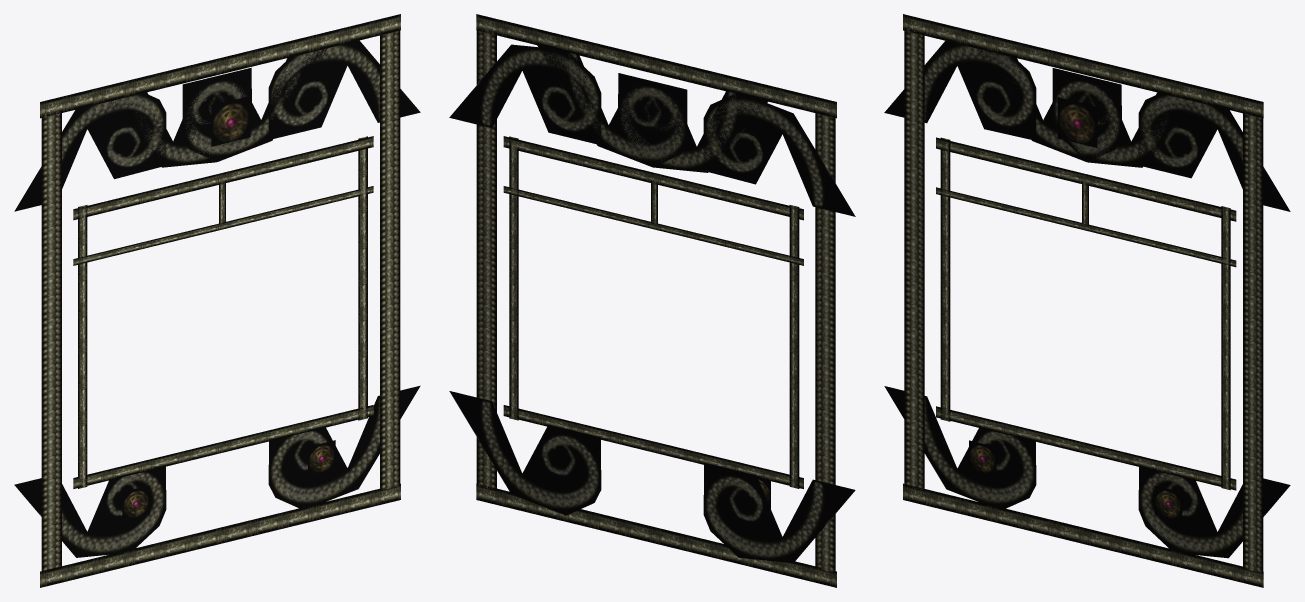
The model's file is gui_treasure_window_a.fbx.
3 renders of one model, left to right at view 1: azimuth 30°, elevation 25°; view 2: azimuth 150°, elevation 25°; view 3: azimuth 330°, elevation 25°, orthographic.
Parts seen in each view (by area): view 1: pPlane81, pPlane82, pPlane84, pPlane83, pPlane80, pPlane79, pPlane78, pPlane86, pPlane85, pPlane68, pPlane110, pPlane73 (+17 smaller); view 2: pPlane84, pPlane83, pPlane81, pPlane82, pPlane80, pPlane79, pPlane73, pPlane114, pPlane72, pPlane113, pPlane76, pPlane111 (+4 smaller); view 3: pPlane82, pPlane81, pPlane83, pPlane84, pPlane80, pPlane79, pPlane78, pPlane86, pPlane85, pPlane114, pPlane110, pPlane113 (+17 smaller).
Boxes of the visible parts, <box> form: pPlane81: <box>268,40,420,139</box>; pPlane82: <box>14,93,166,211</box>; pPlane84: <box>268,385,420,508</box>; pPlane83: <box>14,466,166,557</box>; pPlane80: <box>182,48,327,161</box>; pPlane79: <box>108,67,251,167</box>; pPlane78: <box>211,96,250,146</box>; pPlane86: <box>308,440,335,475</box>; pPlane85: <box>122,485,149,520</box>; pPlane68: <box>95,81,126,104</box>; pPlane110: <box>126,543,157,566</box>; pPlane73: <box>249,43,280,66</box>; pPlane84: <box>449,391,601,515</box>; pPlane83: <box>703,462,855,563</box>; pPlane81: <box>449,44,601,145</box>; pPlane82: <box>703,92,855,216</box>; pPlane80: <box>536,42,687,167</box>; pPlane79: <box>618,73,769,172</box>; pPlane73: <box>596,43,627,67</box>; pPlane114: <box>596,513,627,536</box>; pPlane72: <box>627,51,658,74</box>; pPlane113: <box>627,520,658,544</box>; pPlane76: <box>504,21,535,44</box>; pPlane111: <box>689,535,719,559</box>; pPlane82: <box>884,41,1036,140</box>; pPlane81: <box>1138,93,1290,211</box>; pPlane83: <box>884,386,1036,508</box>; pPlane84: <box>1138,467,1290,558</box>; pPlane80: <box>1052,68,1193,167</box>; pPlane79: <box>977,49,1121,161</box>; pPlane78: <box>1057,97,1097,147</box>; pPlane86: <box>1154,485,1182,520</box>; pPlane85: <box>969,440,996,475</box>; pPlane114: <box>1112,534,1143,558</box>; pPlane110: <box>989,504,1020,528</box>; pPlane113: <box>1081,527,1112,550</box>.
Bounding box in the file's own units: 387 × 441 × 19.32.
Materials: 1 (1 with a texture image).
